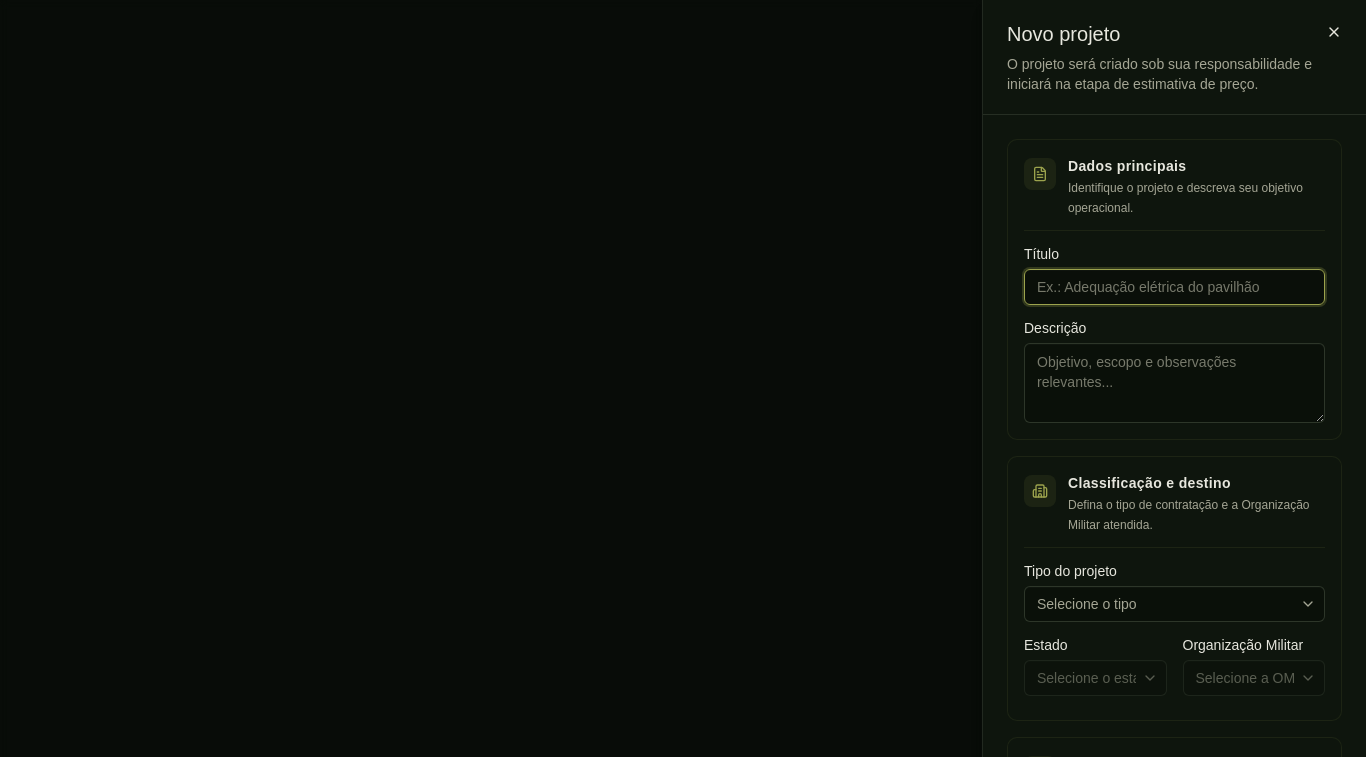
Test case: ProjectFormSheet › restringe CFTV às OMs ativas de Manaus/AM
Click the dropdown named "Tipo do projeto". click: (1087, 604)
box: [1024,586,1325,622]
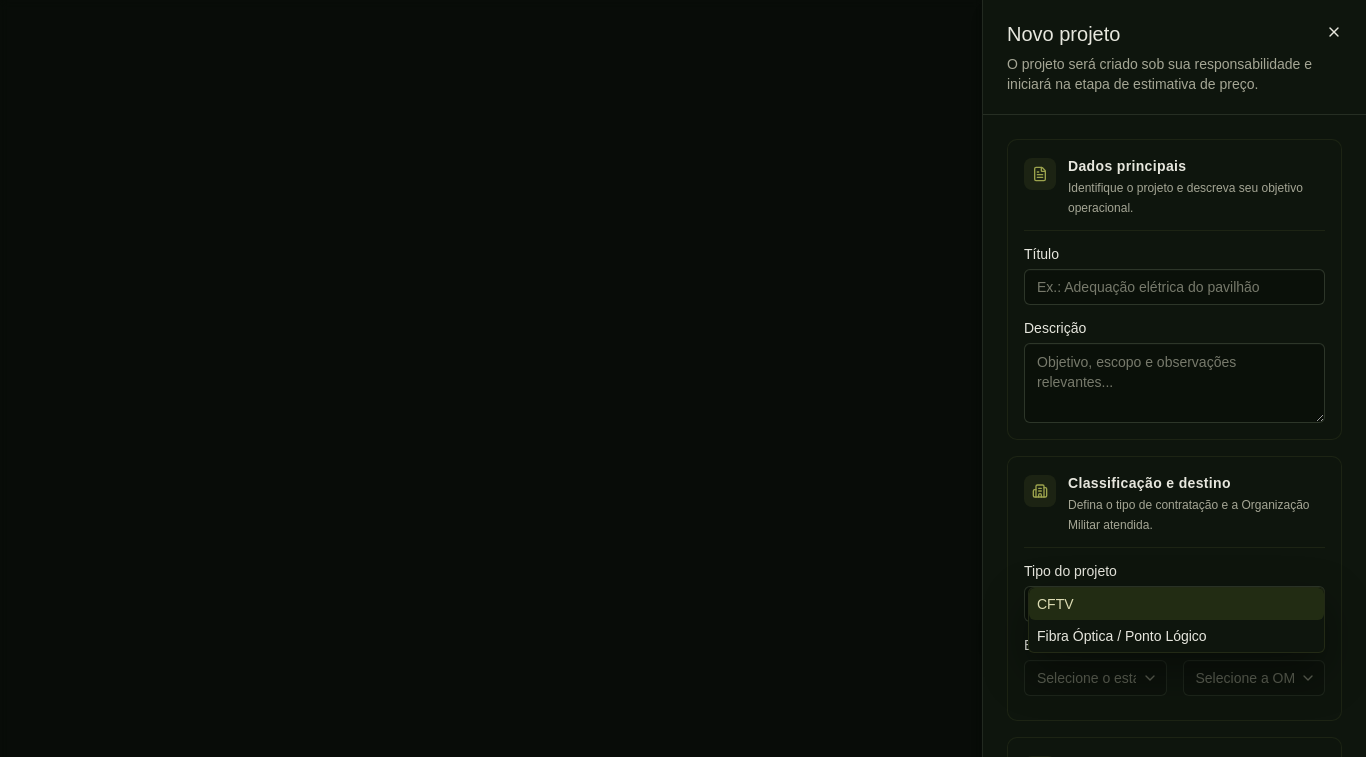
Click the option "CFTV". click: (1055, 604)
box: [1029,588,1324,620]
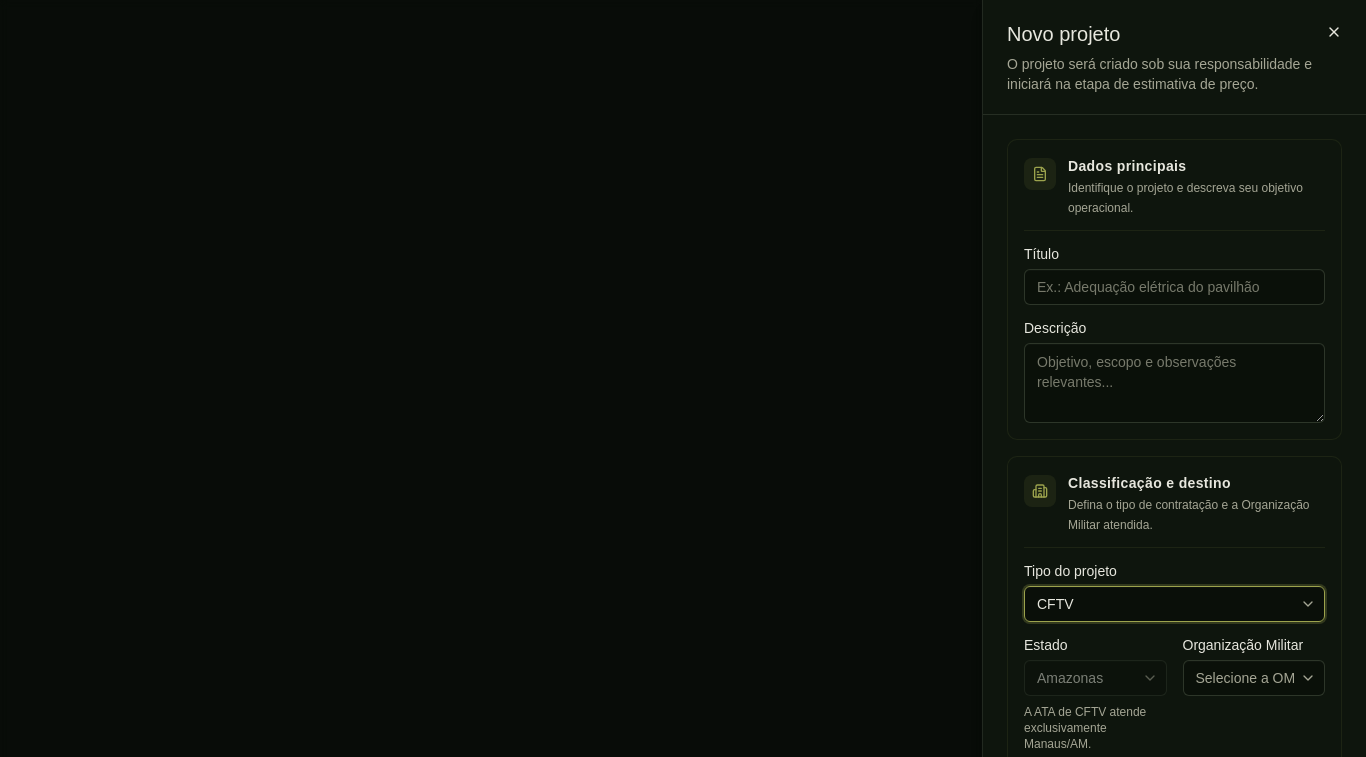
Click the dropdown named "Organização Militar". click: (1254, 678)
box: [1182,660,1325,696]
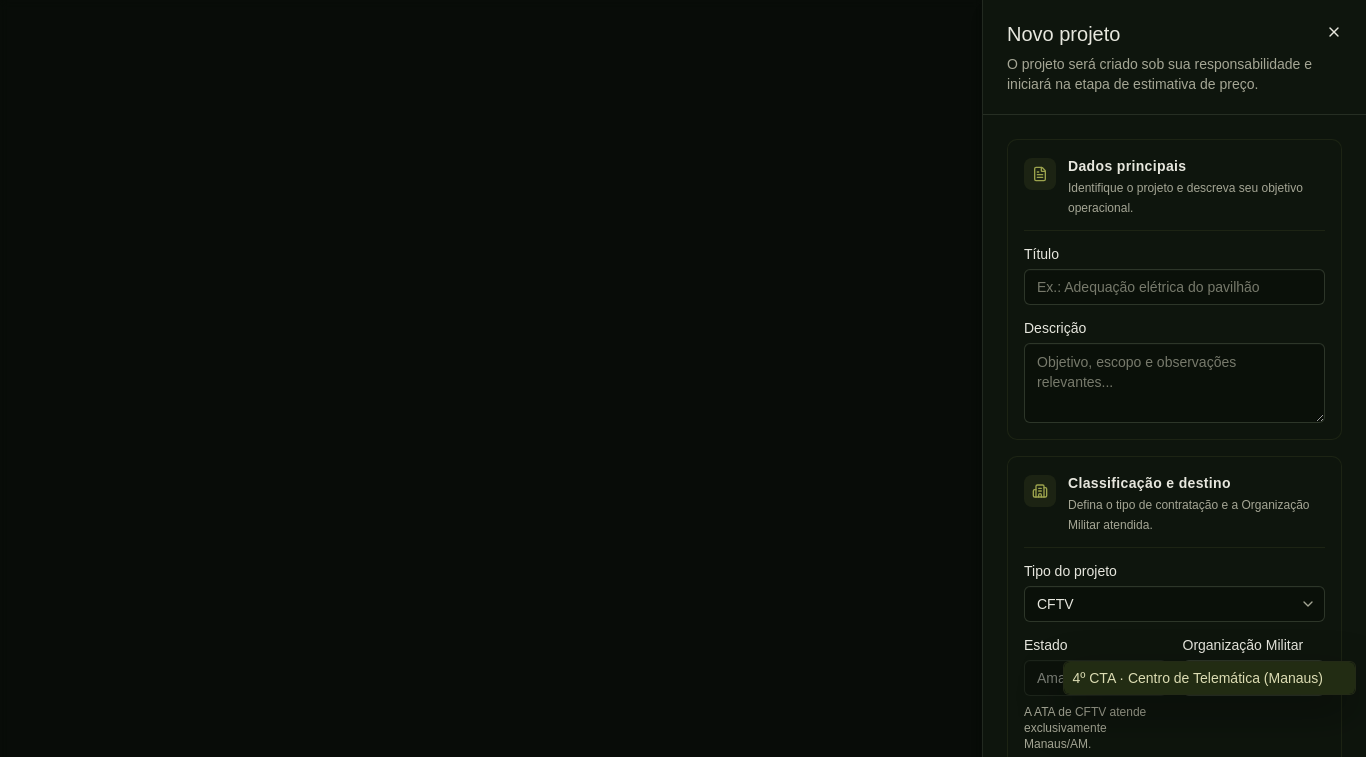
Check: the option "4º CTA · Centro de Telemática (Manaus)" is shown, box [1064,662,1355,694]
